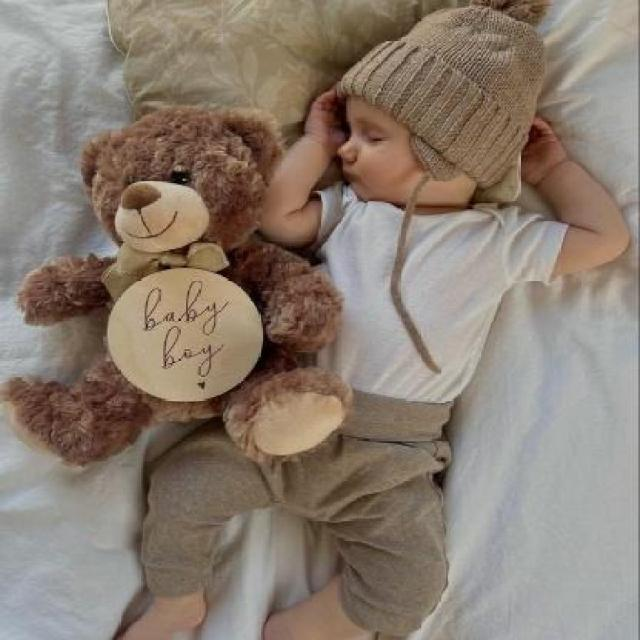baby: (116, 3, 626, 639)
